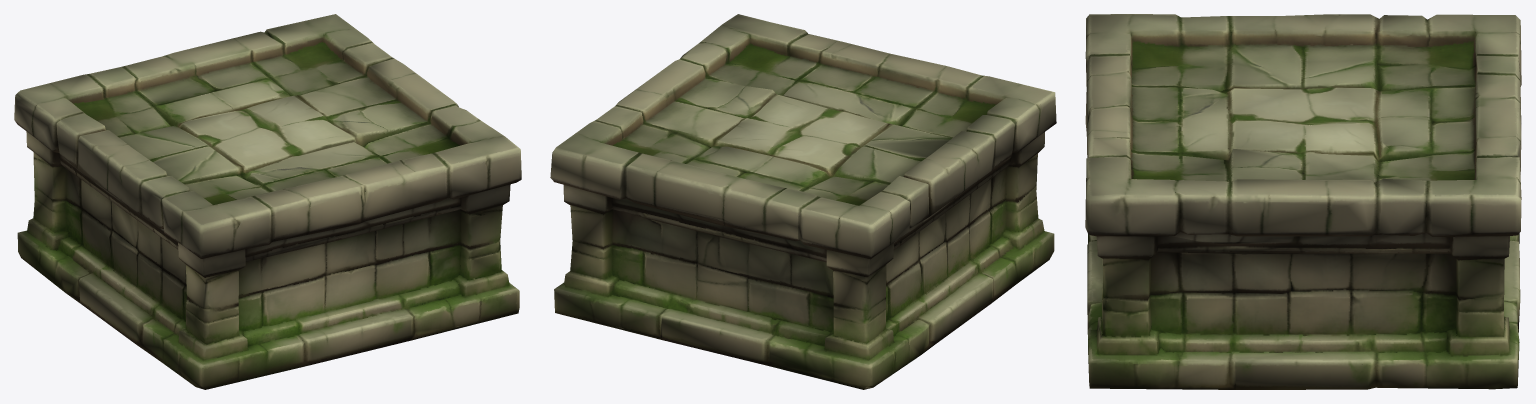
Rendered from PlatformMoss.fbx.
3 views of the same model, side by side, from view 1: azimuth 30°, elevation 25°; view 2: azimuth 150°, elevation 25°; view 3: azimuth 270°, elevation 25° (orthographic). The views are drawn at different scales.
Visible parts, largest first — view 1: PlatformMoss; view 2: PlatformMoss; view 3: PlatformMoss.
Part boxes in pixels (x1,y1,x2,y2): PlatformMoss: (14,14,521,389); PlatformMoss: (550,14,1056,389); PlatformMoss: (1085,14,1521,389).
Bounding box in the file's own units: 0.9988 × 0.4902 × 0.9977.
